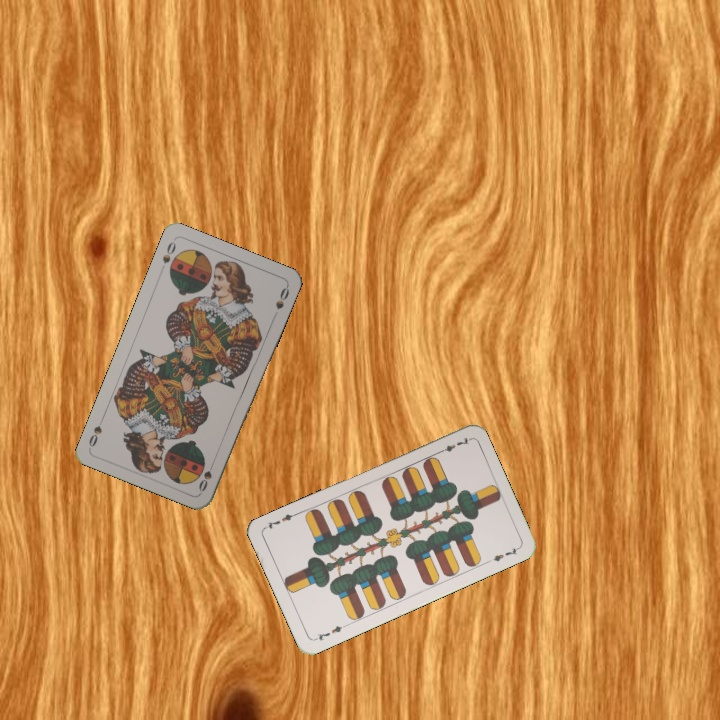E7: (433, 433, 472, 456), (311, 621, 349, 643)
SO: (194, 456, 217, 495), (158, 237, 178, 266)
